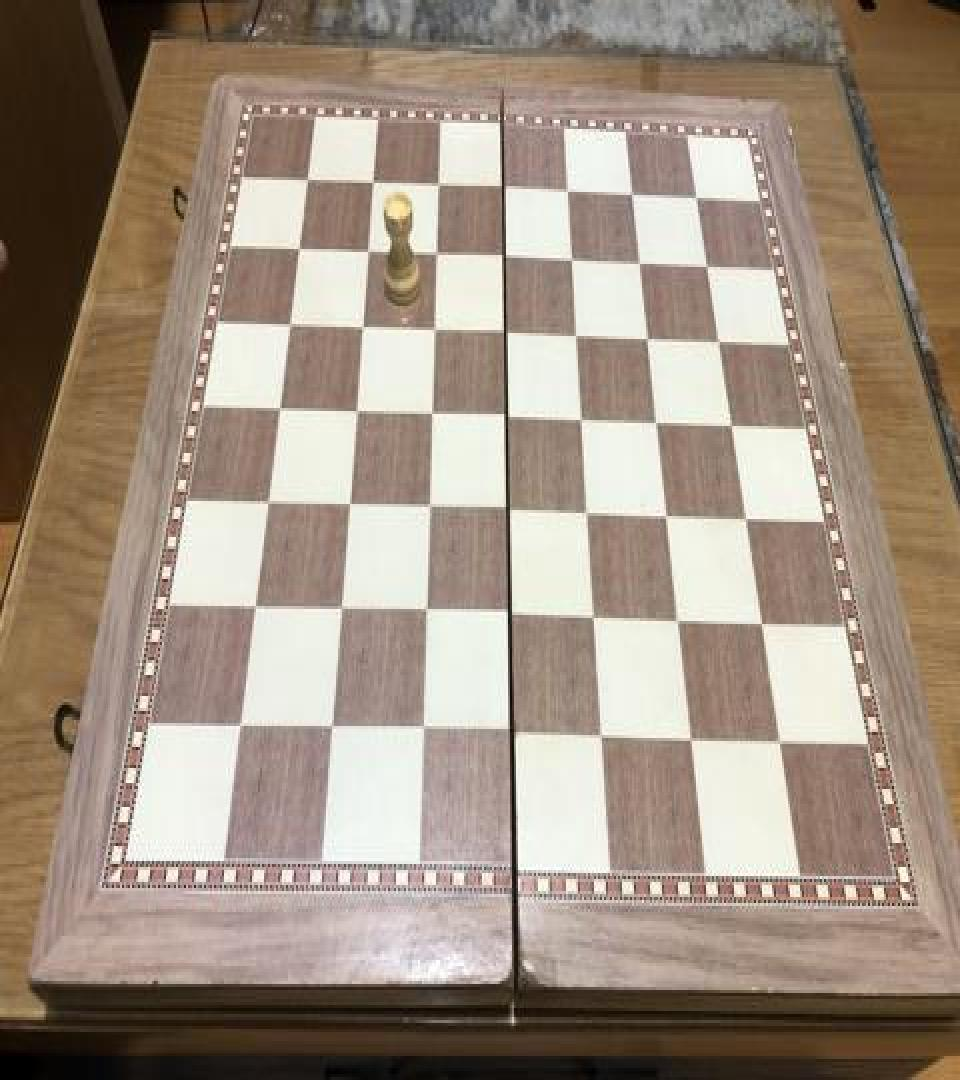xcorner: (769, 727, 793, 764), (501, 718, 525, 755), (319, 712, 343, 749), (687, 182, 711, 218), (622, 178, 646, 214), (558, 174, 582, 210), (493, 171, 517, 207), (428, 168, 452, 204), (362, 164, 386, 200), (296, 160, 320, 196), (697, 250, 721, 286), (630, 248, 654, 284), (562, 243, 586, 279), (494, 240, 518, 276), (426, 237, 450, 273), (357, 232, 381, 268), (288, 230, 312, 266), (708, 326, 732, 362), (638, 322, 662, 358), (567, 320, 591, 356), (495, 316, 519, 352), (423, 312, 447, 348), (351, 309, 375, 345), (278, 306, 302, 342), (721, 410, 745, 446), (647, 406, 671, 442), (572, 404, 596, 440), (496, 400, 520, 436), (421, 398, 445, 434), (344, 393, 368, 429), (267, 390, 291, 426), (735, 504, 759, 540), (657, 501, 681, 537), (577, 498, 601, 534), (498, 494, 522, 530), (418, 490, 442, 526), (337, 488, 361, 524), (255, 484, 279, 520), (751, 609, 775, 645), (668, 606, 692, 642), (584, 603, 608, 639), (499, 600, 523, 636), (414, 597, 438, 633), (328, 594, 352, 630), (242, 591, 266, 627), (680, 724, 704, 760), (591, 722, 615, 758), (410, 716, 434, 752), (227, 710, 251, 746)
